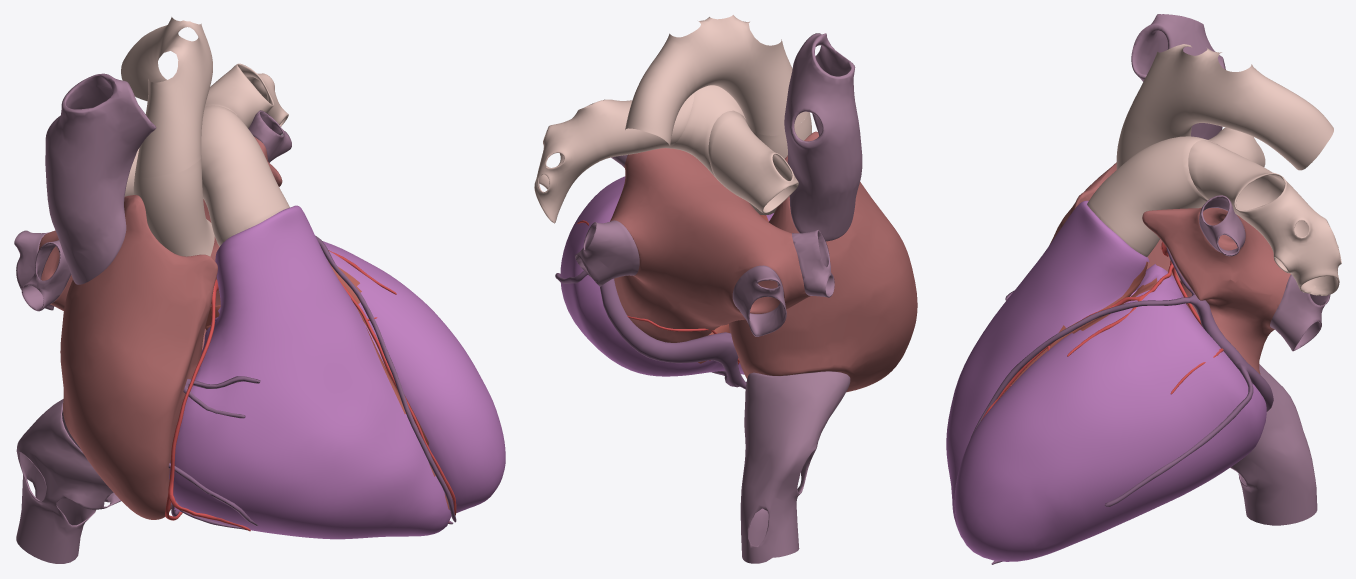
The model's file is coronary-heart.glb.
3 renders of one model, left to right at view 1: azimuth 30°, elevation 25°; view 2: azimuth 150°, elevation 25°; view 3: azimuth 270°, elevation 25°, orthographic. The views are drawn at different scales.
Parts seen in each view (by area): view 1: territory_rv, atrium_RA, vessel_svc, vessel_ivc, vessel_aorta_arch, vessel_pulmonary_trunk, territory_extensiveAnterior, vessel_aorta_ascending, territory_anteroseptal, territory_anterior, vessel_pulmonary_artery_L, territory_lateral (+9 smaller); view 2: atrium_LA, atrium_RA, vessel_ivc, vessel_aorta_arch, vessel_svc, vessel_pulmonary_artery_L, vessel_pulmonary_artery_R, vein_coronary_sinus, vessel_pulmonary_vein_L_inf, territory_posterior, vessel_pulmonary_trunk, vessel_pulmonary_vein_R_inf (+7 smaller); view 3: territory_rv, territory_extensiveAnterior, vessel_aorta_arch, territory_lateral, atrium_LA, vessel_pulmonary_artery_L, territory_posterior, vessel_ivc, territory_highLateral, vessel_pulmonary_trunk, territory_anterior, territory_anteroseptal (+12 smaller).
Boxes of the visible parts, left/top/right/bottom form: territory_rv: left=169, top=205, right=492, bottom=539; atrium_RA: left=60, top=195, right=217, bottom=519; vessel_svc: left=45, top=73, right=156, bottom=284; vessel_ivc: left=16, top=399, right=120, bottom=563; vessel_aorta_arch: left=121, top=17, right=212, bottom=177; vessel_pulmonary_trunk: left=201, top=105, right=289, bottom=246; territory_extensiveAnterior: left=211, top=244, right=503, bottom=512; vessel_aorta_ascending: left=133, top=158, right=214, bottom=256; territory_anteroseptal: left=211, top=280, right=504, bottom=512; territory_anterior: left=361, top=280, right=504, bottom=512; vessel_pulmonary_artery_L: left=205, top=63, right=288, bottom=128; territory_lateral: left=325, top=244, right=505, bottom=499; atrium_LA: left=610, top=148, right=810, bottom=342; atrium_RA: left=729, top=131, right=917, bottom=392; vessel_ivc: left=740, top=371, right=850, bottom=563; vessel_aorta_arch: left=625, top=15, right=807, bottom=145; vessel_svc: left=784, top=33, right=862, bottom=241; vessel_pulmonary_artery_L: left=534, top=93, right=694, bottom=223; vessel_pulmonary_artery_R: left=708, top=110, right=798, bottom=213; vein_coronary_sinus: left=599, top=278, right=746, bottom=388; vessel_pulmonary_vein_L_inf: left=575, top=220, right=639, bottom=286; territory_posterior: left=561, top=183, right=653, bottom=374; vessel_pulmonary_trunk: left=666, top=85, right=745, bottom=177; vessel_pulmonary_vein_R_inf: left=732, top=265, right=786, bottom=336; territory_rv: left=946, top=200, right=1258, bottom=561; territory_extensiveAnterior: left=954, top=264, right=1259, bottom=561; vessel_aorta_arch: left=1123, top=44, right=1333, bottom=170; territory_lateral: left=957, top=265, right=1255, bottom=561; atrium_LA: left=1142, top=208, right=1290, bottom=374; vessel_pulmonary_artery_L: left=1188, top=140, right=1341, bottom=295; territory_posterior: left=1045, top=269, right=1266, bottom=541; vessel_ivc: left=1230, top=364, right=1317, bottom=525; territory_highLateral: left=1029, top=266, right=1259, bottom=504; vessel_pulmonary_trunk: left=1087, top=136, right=1219, bottom=256; territory_anterior: left=954, top=268, right=1151, bottom=560; territory_anteroseptal: left=955, top=288, right=1138, bottom=559.
Size of the model in its own units: 1.25 by 1.7 by 1.18.
